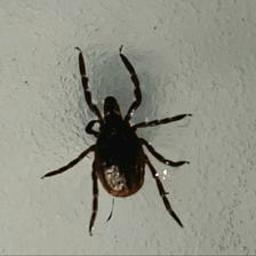Ixodes scapularis: (41, 48, 191, 235)
